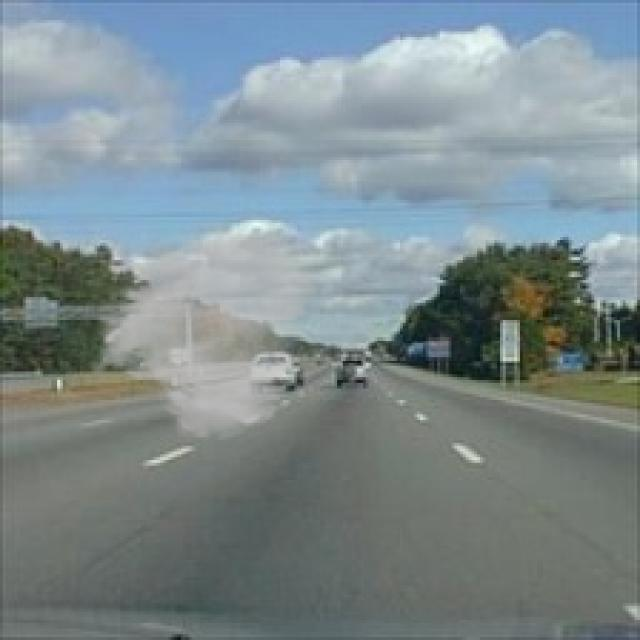Smoke: (86, 228, 320, 443)
